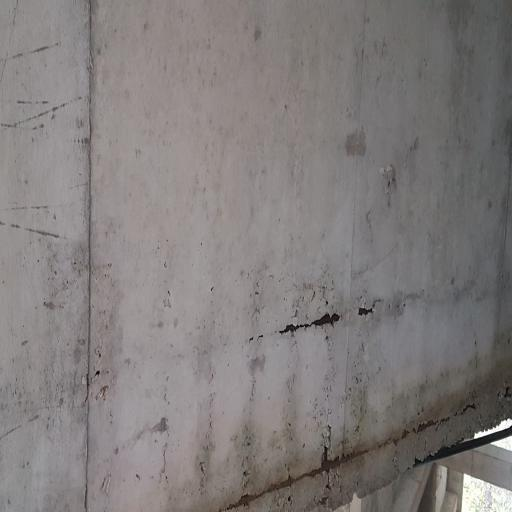exposed_rebar: (225, 474, 299, 511), (301, 450, 368, 477), (280, 313, 340, 334), (418, 419, 440, 432), (358, 308, 373, 316), (383, 440, 400, 447), (504, 386, 511, 400), (464, 405, 474, 413), (440, 415, 450, 423), (402, 432, 409, 441), (324, 446, 328, 461), (413, 428, 416, 434)
